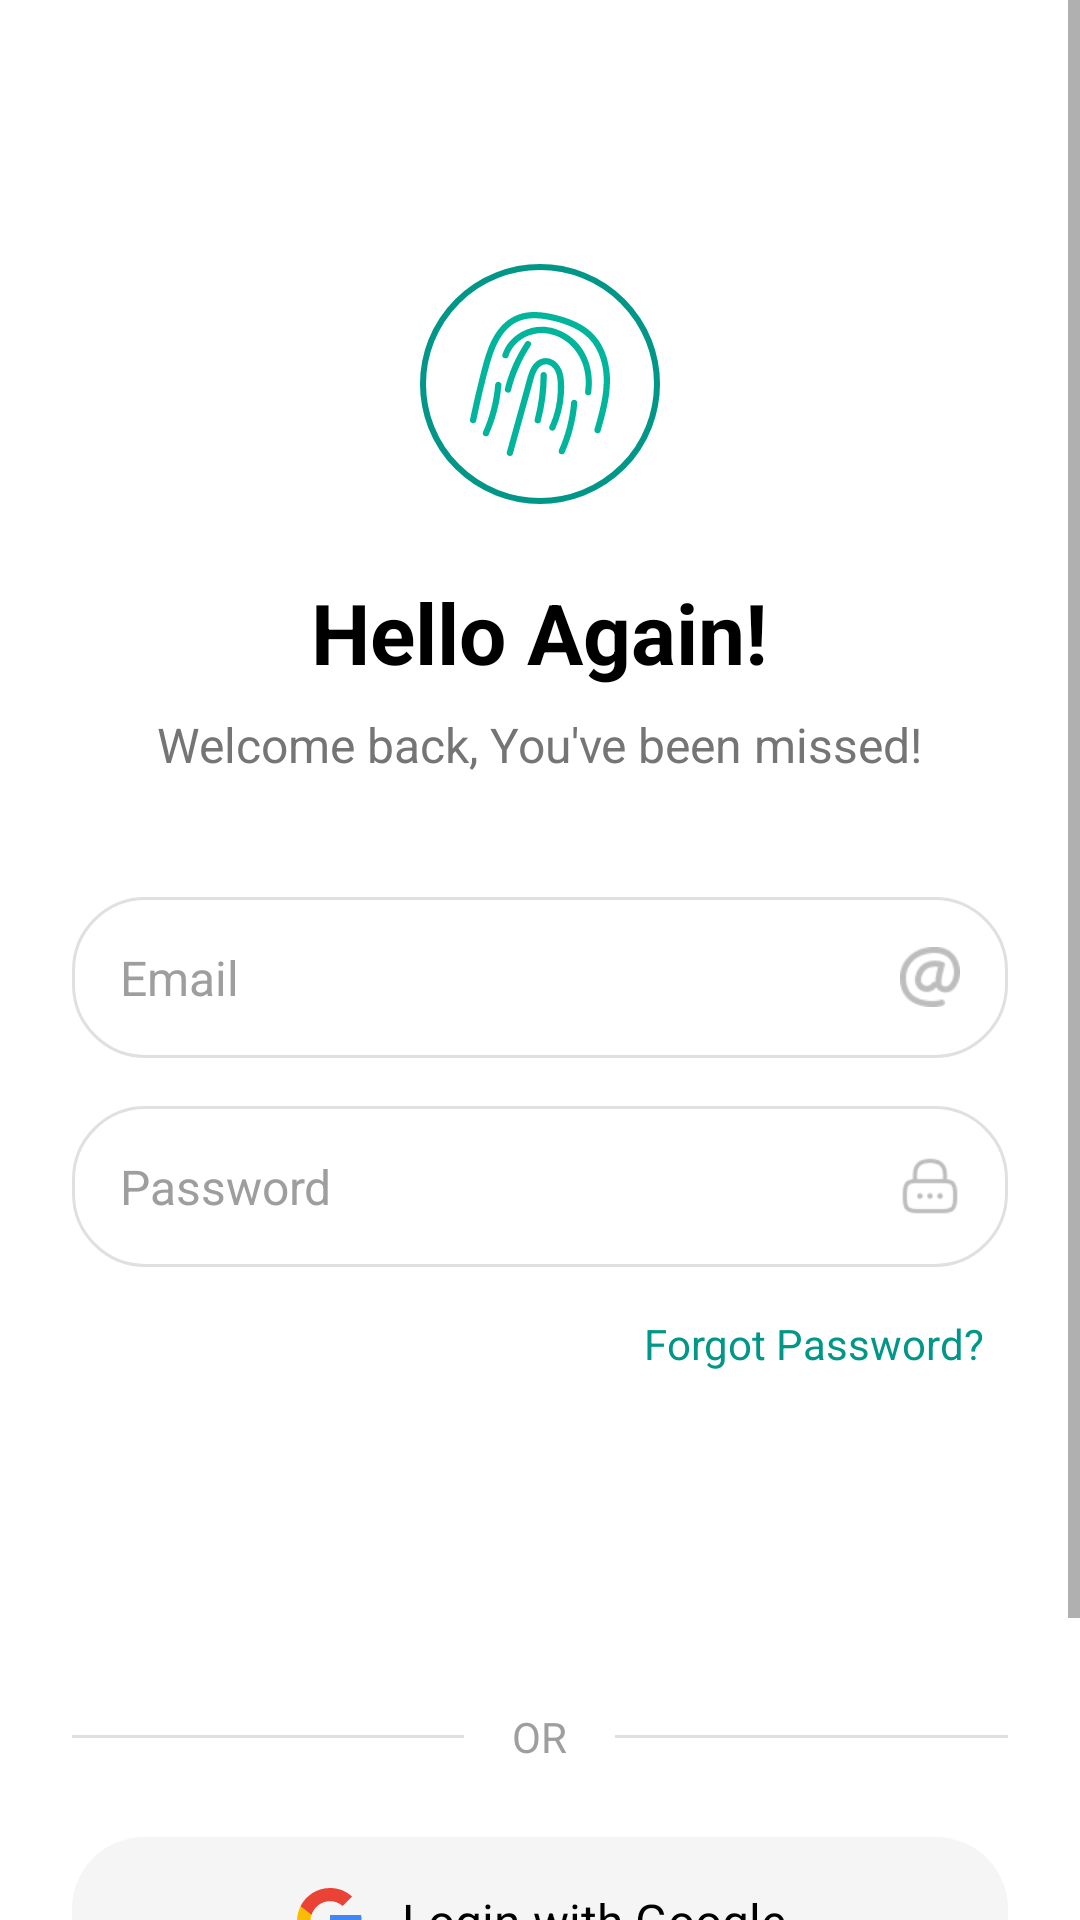

Named icons in this screenshot (1080×1920) and their bounding boxes, bbox(x1, y1, x2, y2):
Fingerprint Icon: bbox(420, 264, 660, 504)
Lock Icon: bbox(903, 1159, 957, 1213)
Username Icon: bbox(900, 947, 960, 1007)
